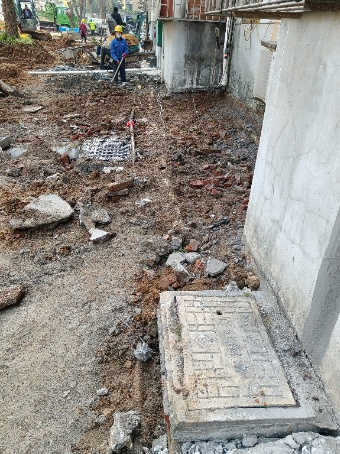good: (162, 289, 317, 419)
